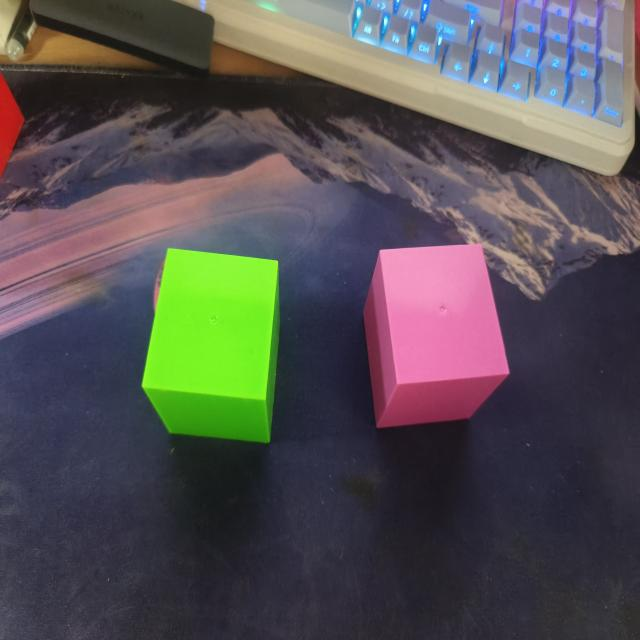green: (134, 240, 294, 458)
pink: (355, 236, 521, 443)
